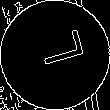L_W: (26, 33, 84, 77)
